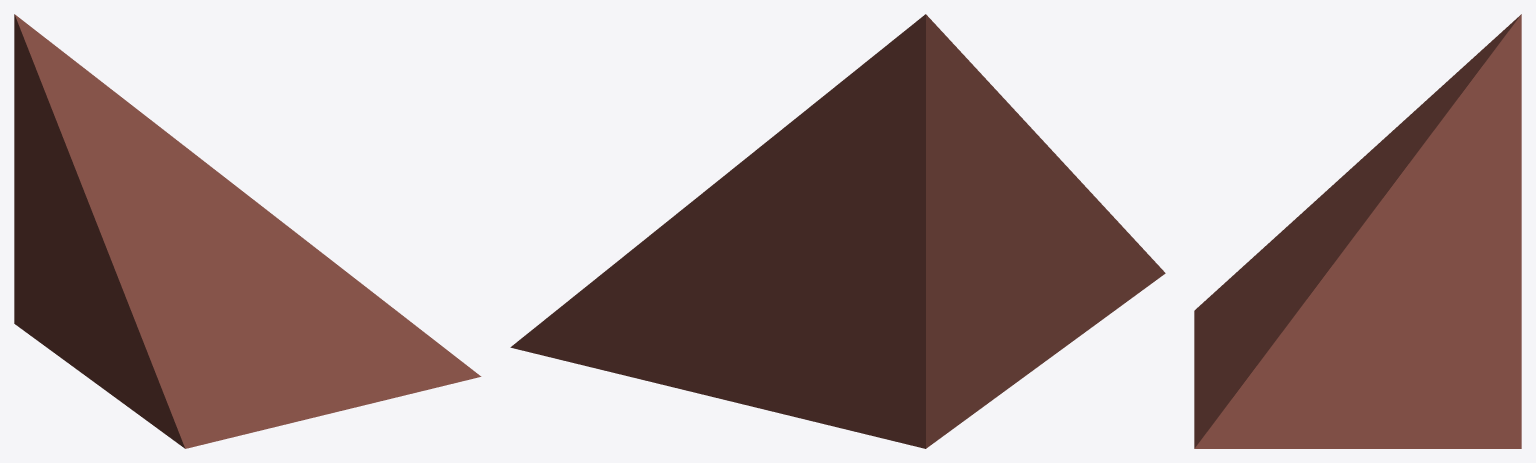
Rendered from Dirt Corner.glb.
3 renders of one model, left to right at view 1: azimuth 30°, elevation 25°; view 2: azimuth 150°, elevation 25°; view 3: azimuth 270°, elevation 25°, orthographic. The views are drawn at different scales.
Visible parts, largest first — view 1: Dirt Corner; view 2: Dirt Corner; view 3: Dirt Corner.
Part boxes in pixels (x1,y1,x2,y2): Dirt Corner: (14,14,481,448); Dirt Corner: (510,14,1165,448); Dirt Corner: (1194,14,1521,448).
Bounding box in the file's own units: 2 × 2 × 2.
1 material, 1 textured.
